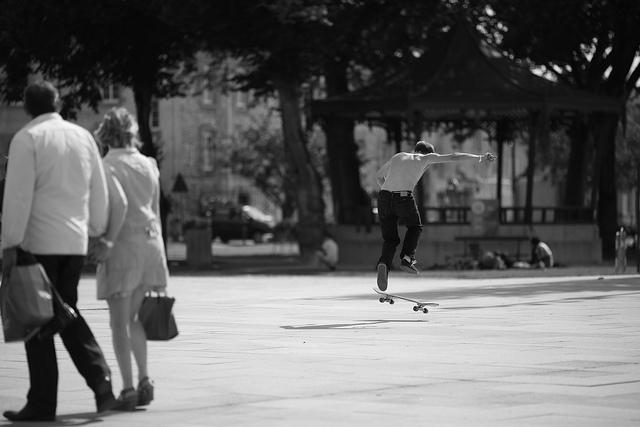car: (209, 203, 278, 245)
